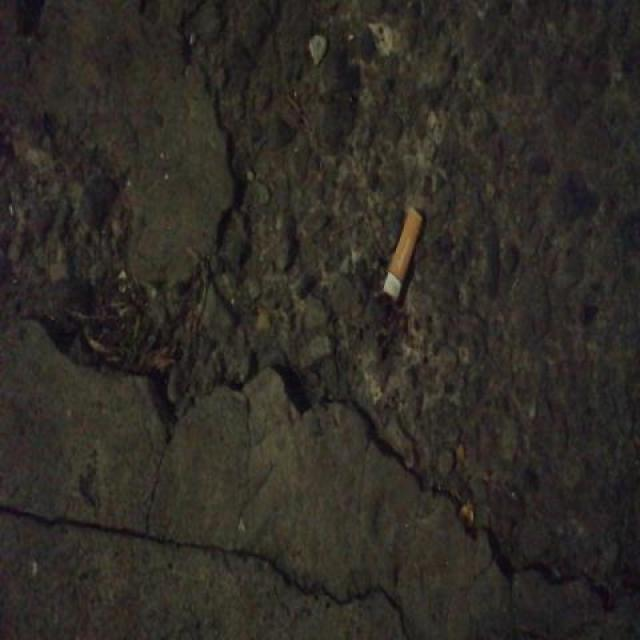non-organic waste: (380, 198, 427, 306)
